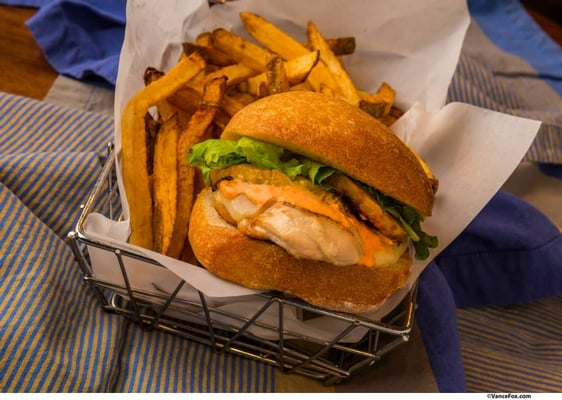soup: (185, 90, 440, 313)
